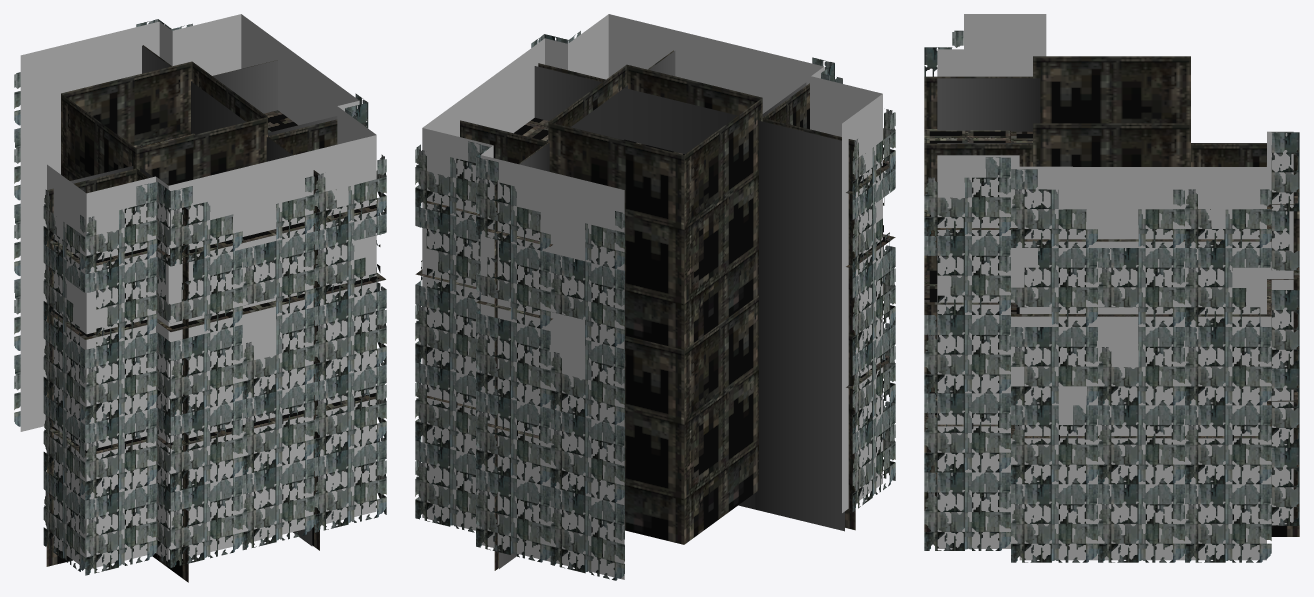
Rendered from BGBLD01.FBX.
The picture shows the model from 3 angles, left to right: view 1: azimuth 30°, elevation 25°; view 2: azimuth 150°, elevation 25°; view 3: azimuth 270°, elevation 25°; orthographic projection. The views are drawn at different scales.
Parts seen in each view (by area): view 1: BGBLD01_lod:0, BGBLD03, group1, BGBLD01:4, BGBLD02; view 2: BGBLD01_lod:0, group1, BGBLD02, BGBLD03; view 3: BGBLD01_lod:0, BGBLD01:4, BGBLD02, group1, BGBLD03.
Part boxes in pixels (<box>): BGBLD01_lod:0: <box>20,14,376,568</box>; BGBLD03: <box>43,176,314,575</box>; group1: <box>46,45,385,582</box>; BGBLD01:4: <box>314,93,386,532</box>; BGBLD02: <box>14,19,192,426</box>; BGBLD01_lod:0: <box>422,14,882,579</box>; group1: <box>415,50,895,570</box>; BGBLD02: <box>415,141,624,580</box>; BGBLD03: <box>812,57,895,511</box>; BGBLD01_lod:0: <box>937,14,1293,560</box>; BGBLD01:4: <box>924,157,1184,562</box>; BGBLD02: <box>1185,132,1299,562</box>; group1: <box>924,56,1299,536</box>; BGBLD03: <box>924,30,963,76</box>.
Size of the model in its own units: 22.13 by 26.94 by 22.13.
